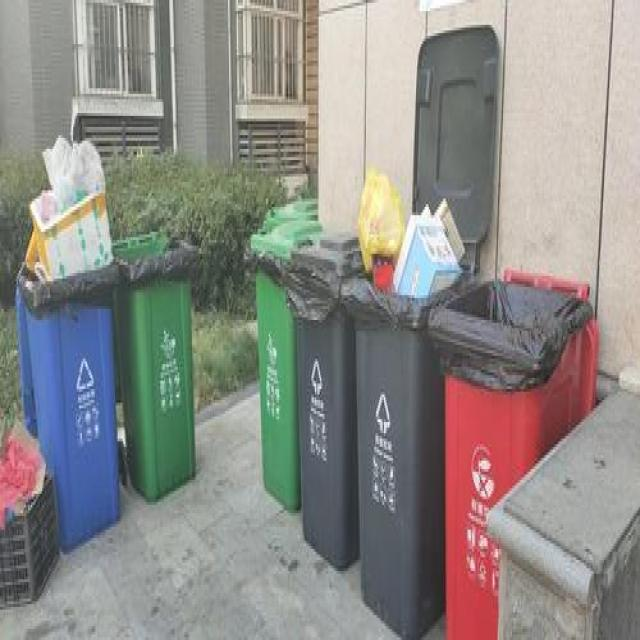garbage: (0, 416, 58, 607)
garbage_bin: (432, 270, 596, 638), (286, 232, 360, 568), (112, 226, 198, 499), (250, 196, 322, 507)
overflow: (342, 174, 474, 637), (14, 135, 123, 552)
